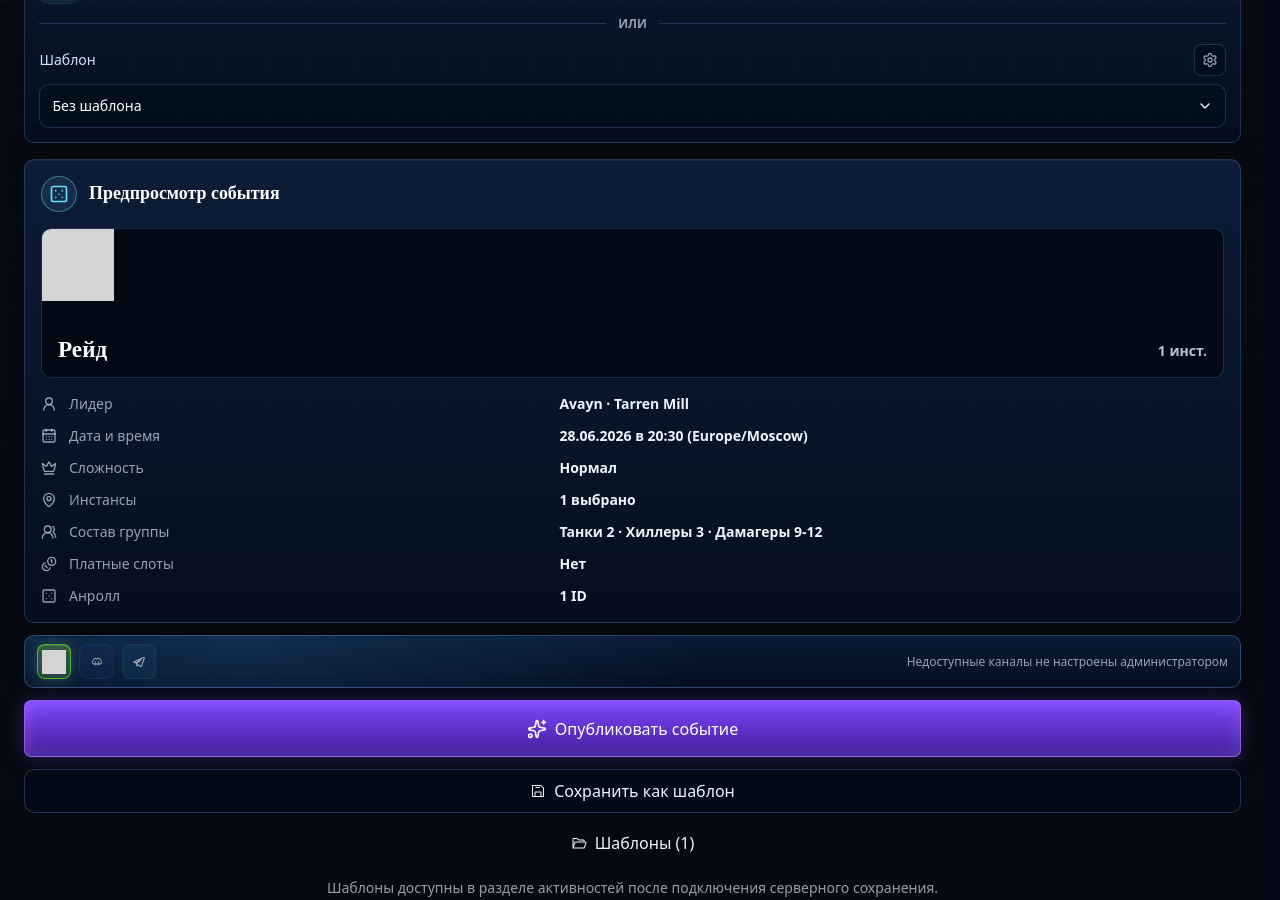
CreateEventForm › loads a stale template with safe fallbacks and a warning
The width and height of the screenshot is (1280, 900).
(page scrolled)
Click the button "Шаблоны (1)" at (632, 843), box [24,821,1241,865]
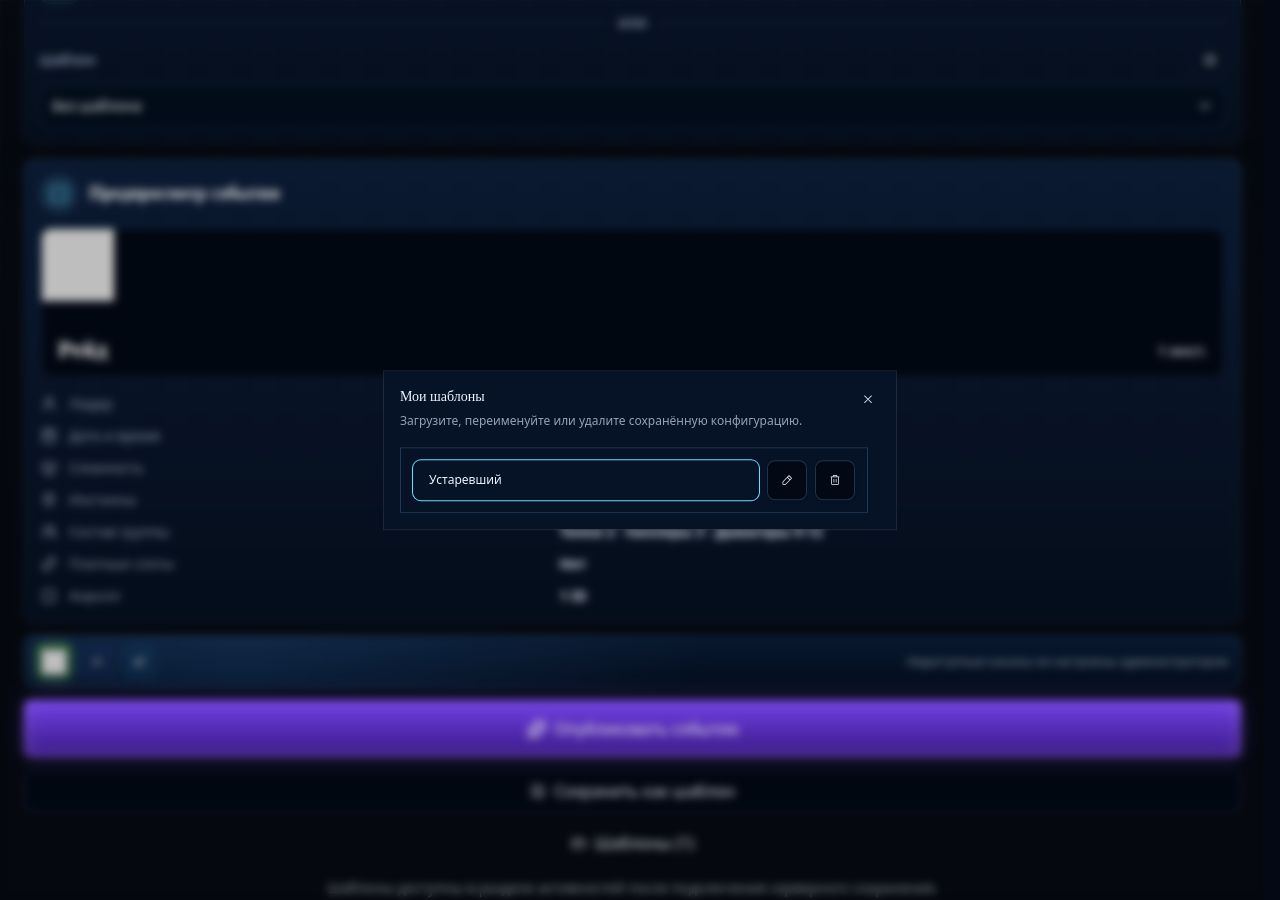
Click the button "Устаревший" at (465, 480), box [413,460,759,500]
(page scrolled)
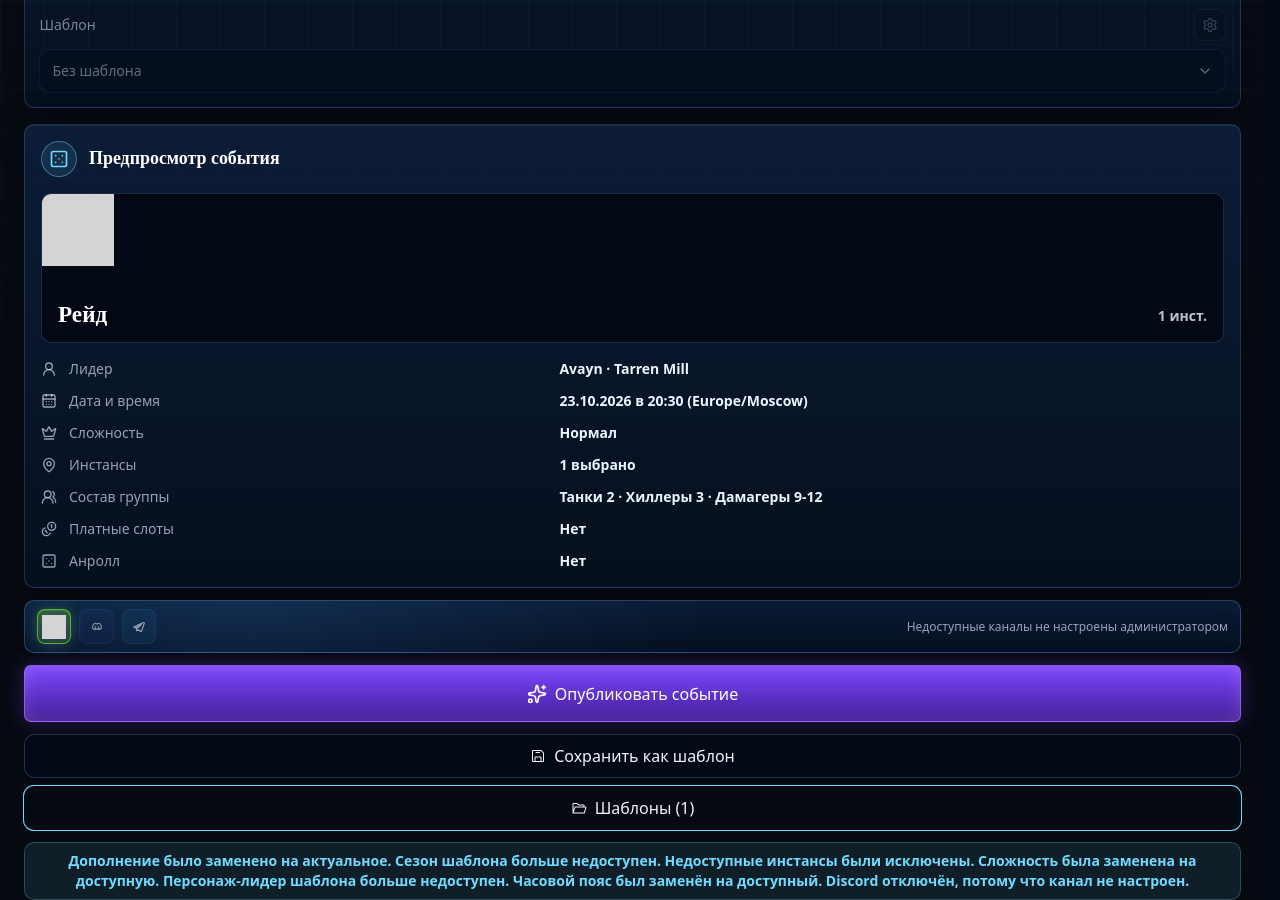
Check: the text "Часовой пояс был заменён" is shown, box [69,851,1196,890]
